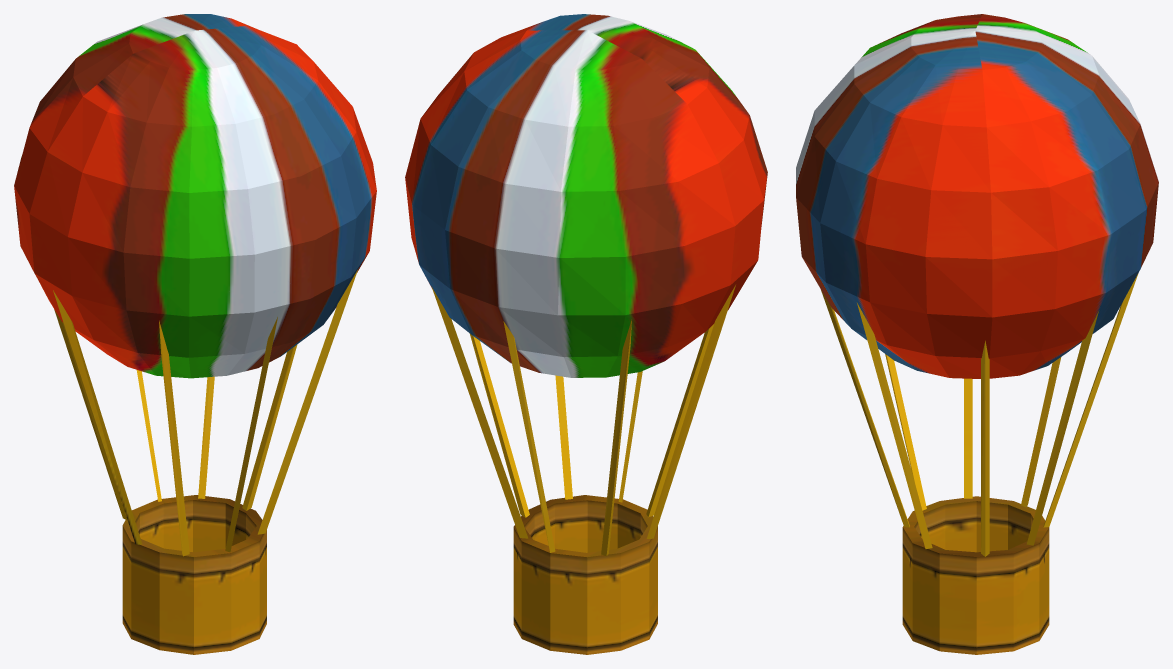
File: AirBall.glb
3 renders of one model, left to right at view 1: azimuth 30°, elevation 25°; view 2: azimuth 150°, elevation 25°; view 3: azimuth 270°, elevation 25°, orthographic.
Visible parts, largest first — view 1: AirBall; view 2: AirBall; view 3: AirBall.
Boxes of the visible parts, x1,y1,x2,y2 form: AirBall: (14, 14, 376, 654); AirBall: (405, 14, 767, 654); AirBall: (796, 14, 1158, 654).
Bounding box in the file's own units: 224 × 403 × 223.
1 material, 1 textured.
